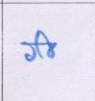i_matra: (38, 31, 55, 57)
